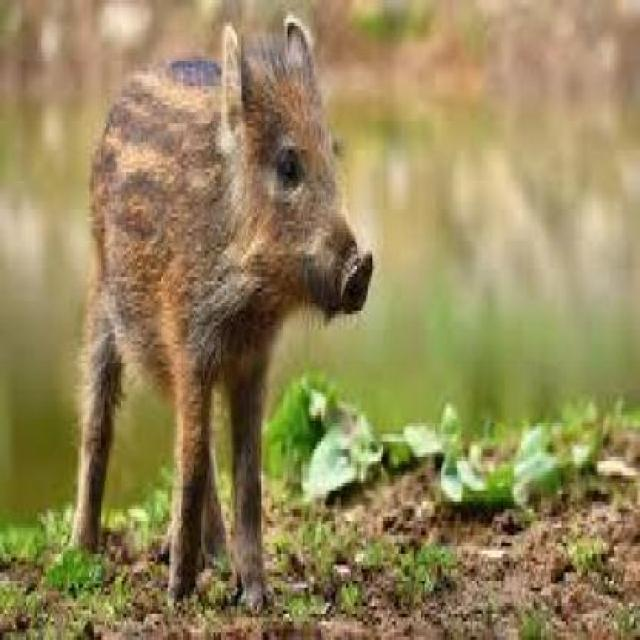wildboar: (62, 10, 376, 624)
